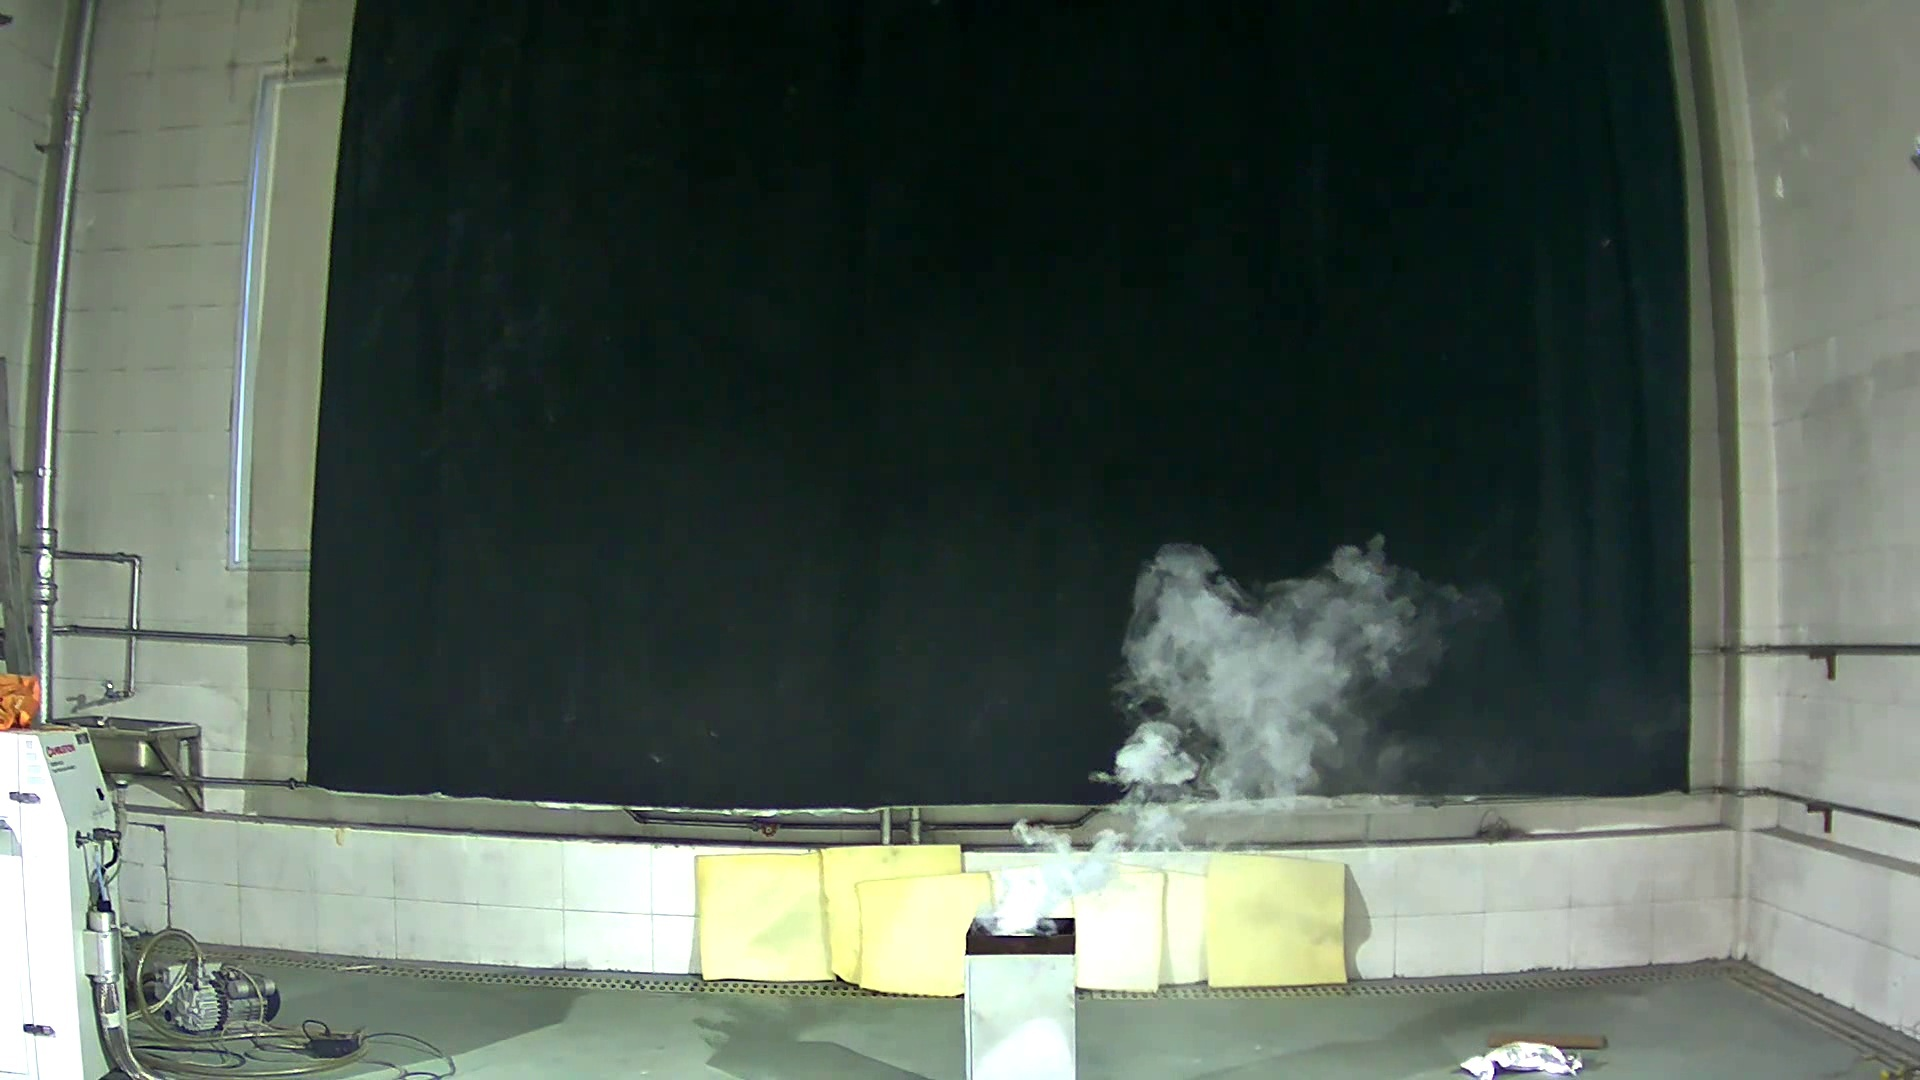smoke: (973, 538, 1490, 938)
